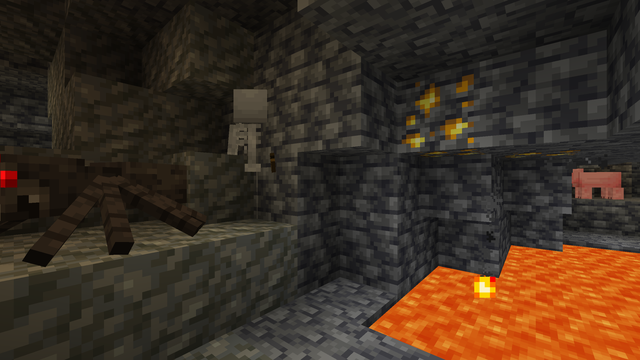araignees: (34, 142, 189, 262)
cochons: (573, 170, 616, 199)
squelettes: (231, 85, 266, 221)
